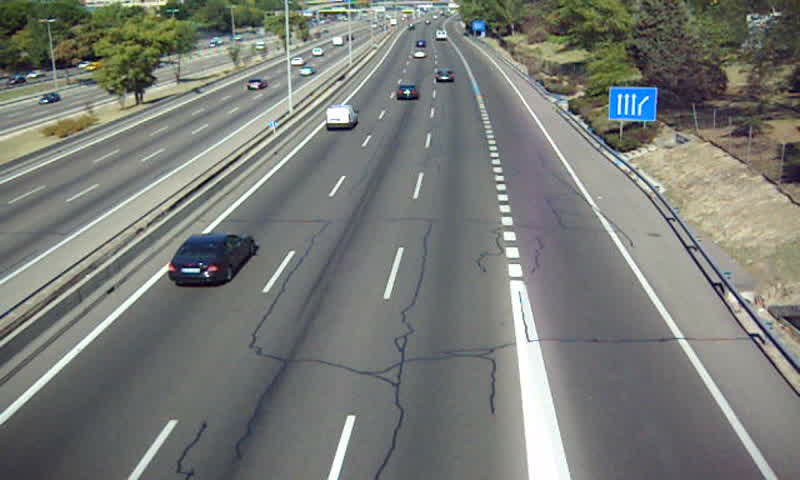car: (166, 233, 256, 284), (395, 82, 422, 102), (434, 68, 455, 85)
van: (325, 105, 356, 130)
